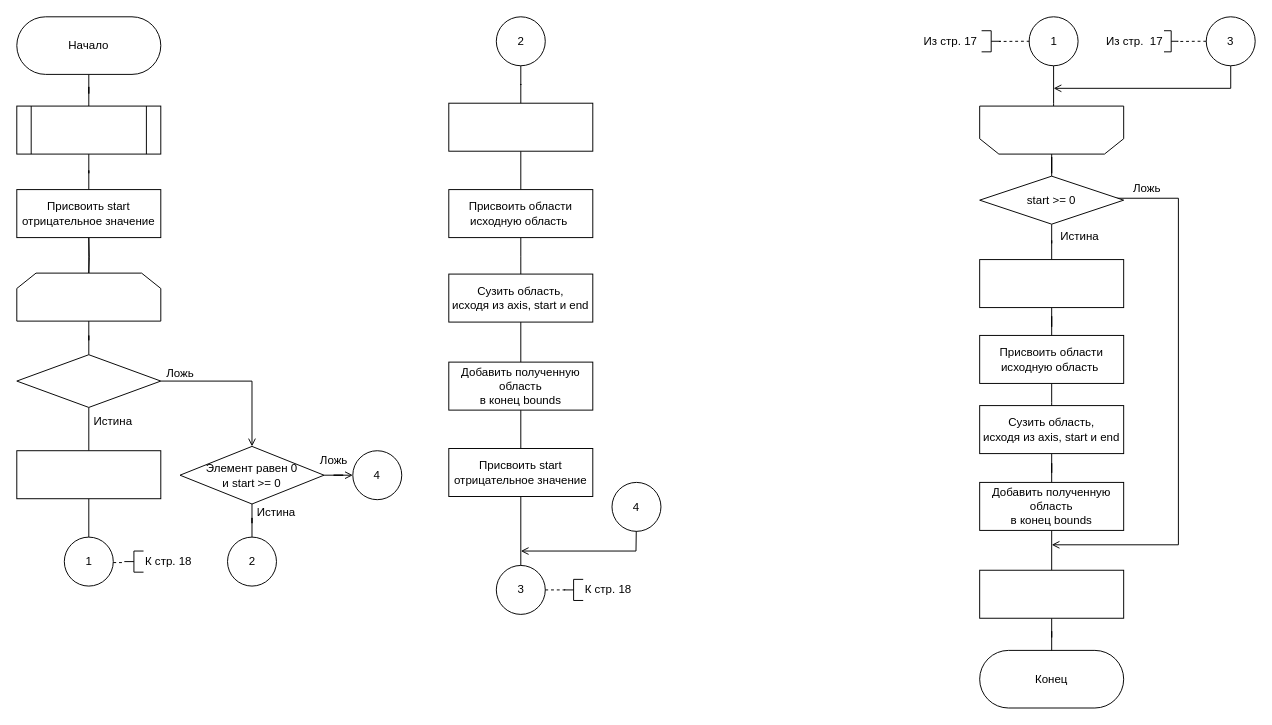
Image size: 1272x725. Some labels were removed from this diagram. The shapes that lost their labels are listed below. From the top down, each one's box as (x1, y1, x2, y2) in pixels, then its label:
(16, 105, 161, 154): getProfile (pp, I, r, !axis)
(448, 102, 593, 151): Присвоить end индекс элемента, уменьшенный на 1
(979, 105, 1124, 154): А0
(16, 272, 161, 321): A0 Для каждого элемента pp
(979, 259, 1124, 308): Присвоить end индекс последнего элемента pp
(16, 354, 161, 407): Элемент не 0 и start < 0
(16, 450, 161, 499): Присвоить start индекс элемента
(979, 569, 1124, 618): Вернуть bounds
